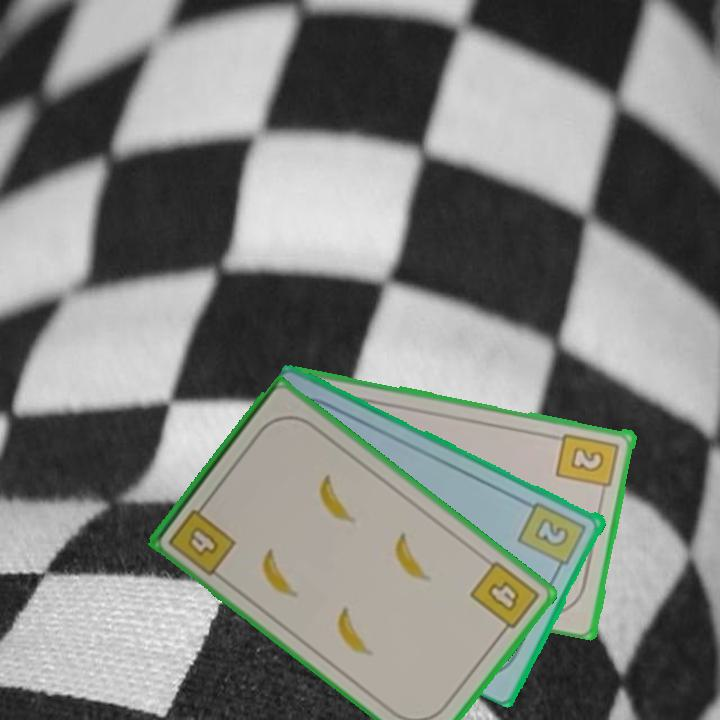2b: (515, 498, 590, 575), (554, 429, 622, 499)
4b: (466, 557, 543, 639), (165, 496, 239, 579)
